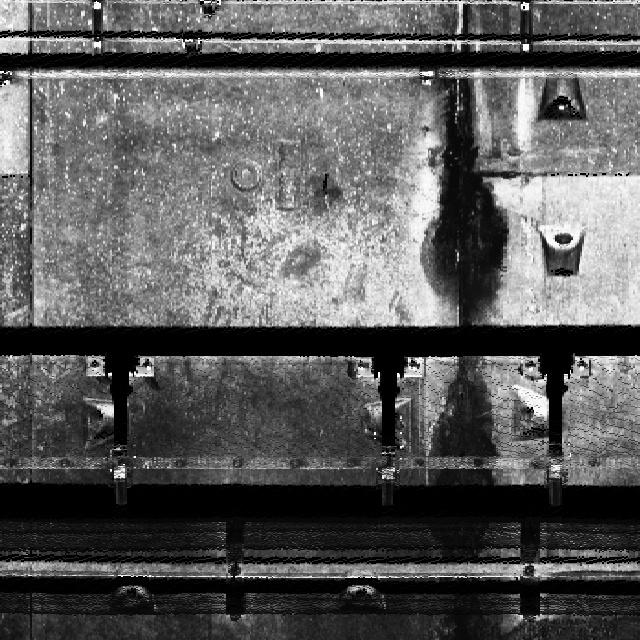leakage: (416, 73, 512, 636)
